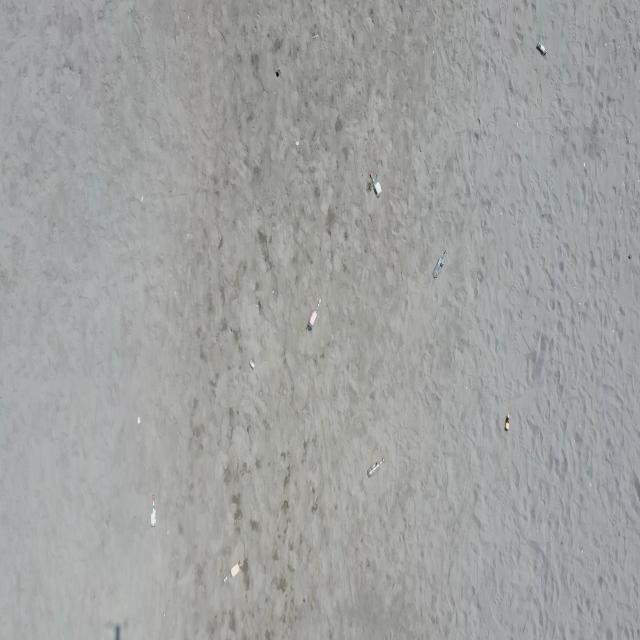glass: (432, 249, 448, 278), (222, 560, 242, 583), (307, 298, 321, 330), (367, 457, 385, 478), (370, 172, 383, 197), (536, 41, 548, 57), (151, 495, 156, 527), (505, 414, 510, 431), (249, 360, 255, 370)
